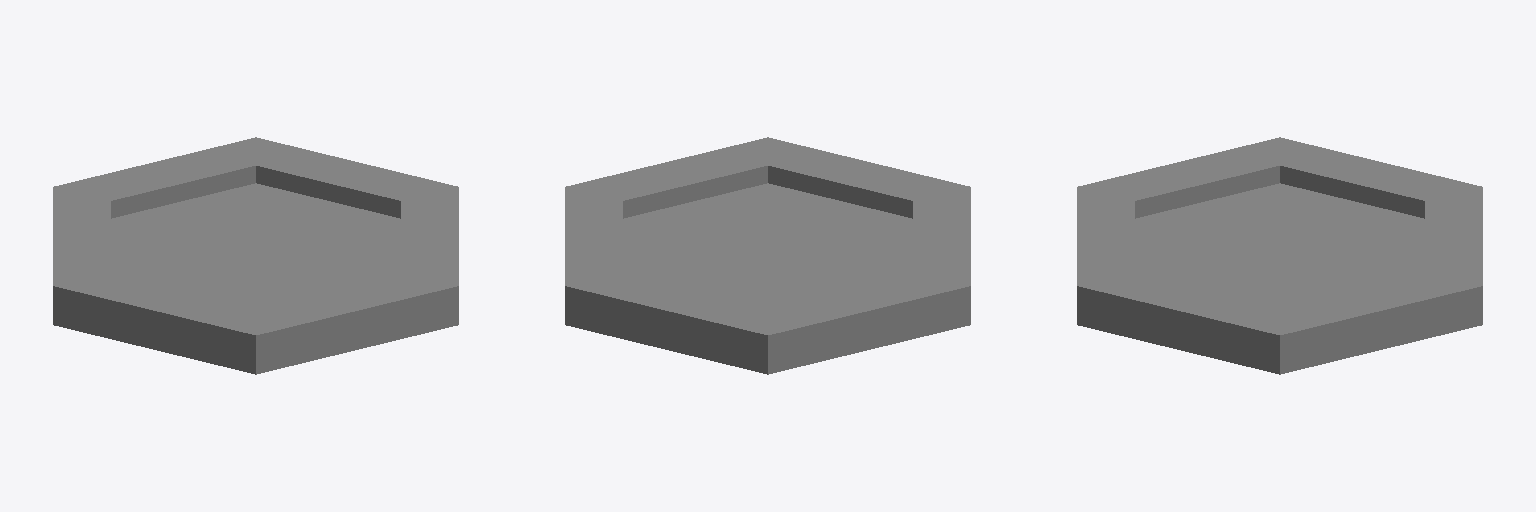
Rendered from thaumometer.obj.
The picture shows the model from 3 angles: view 1: azimuth 30°, elevation 25°; view 2: azimuth 150°, elevation 25°; view 3: azimuth 270°, elevation 25°; orthographic projection.
Parts seen in each view (by area): view 1: scanner; view 2: scanner; view 3: scanner.
Boxes of the visible parts, <box> form: scanner: <box>53,137,458,374</box>; scanner: <box>565,137,970,374</box>; scanner: <box>1077,137,1482,374</box>.
Size of the model in its own units: 0.943 by 0.0868 by 0.8167.